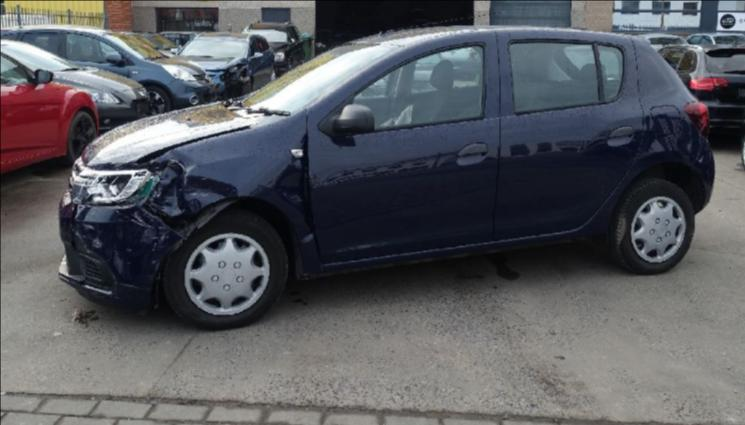Broken part: (117, 108, 312, 240)
Cracked: (85, 166, 157, 207)
Dent: (144, 151, 236, 239), (102, 207, 181, 285), (253, 136, 312, 236)
Scratch: (333, 239, 393, 253), (168, 158, 195, 184), (161, 194, 184, 217), (149, 226, 167, 253), (131, 211, 153, 228), (149, 186, 162, 208), (140, 207, 160, 221), (90, 237, 103, 248), (150, 259, 161, 271), (189, 191, 208, 197), (302, 235, 312, 244), (124, 247, 133, 253)
